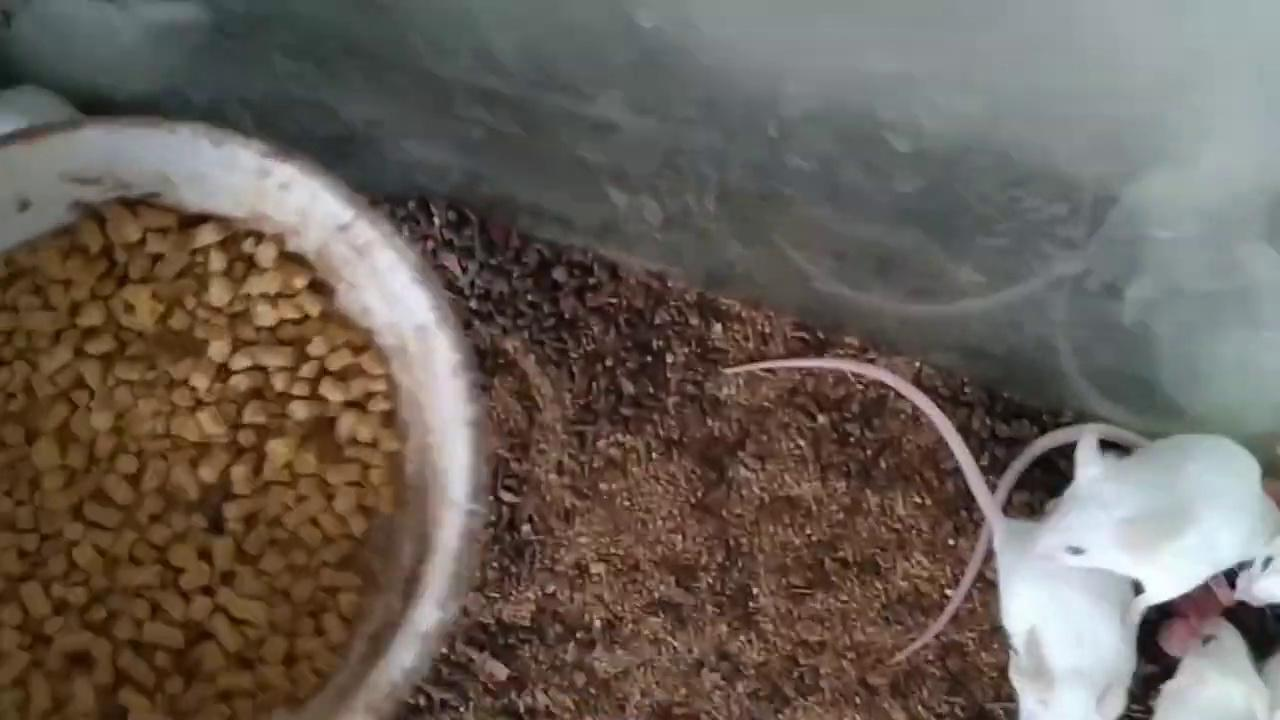rat: (729, 361, 1134, 718), (1035, 425, 1280, 625)
